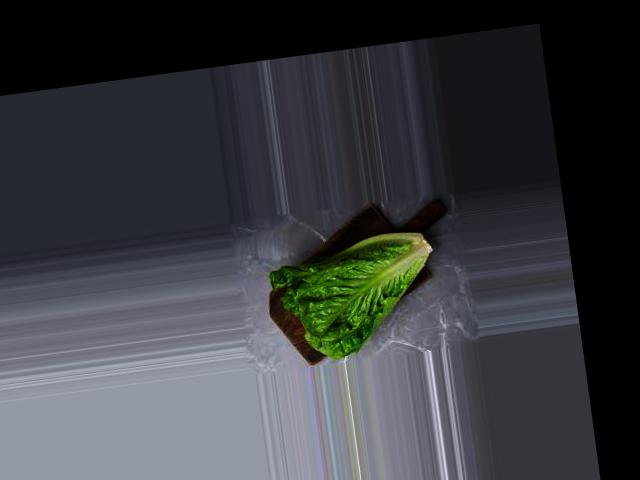lettuce: (273, 210, 443, 363)
